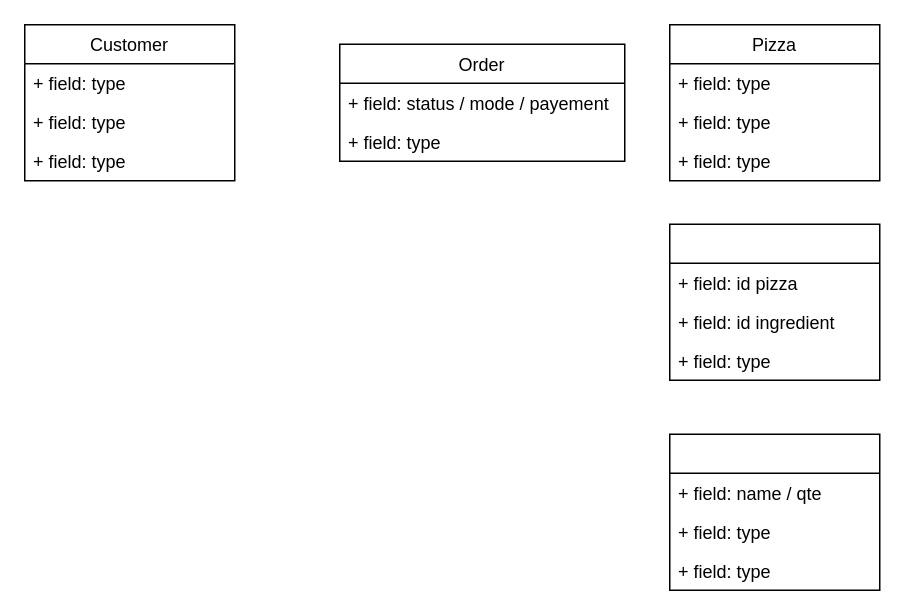
This 905x615 diagram has some shape labels left out. The shapes that lost their labels are listed below. From the top down, each one's box as (x1, y1, x2, y2) in pixels, then its label:
(668, 223, 880, 380): Recette
(668, 433, 880, 590): Ingredients
